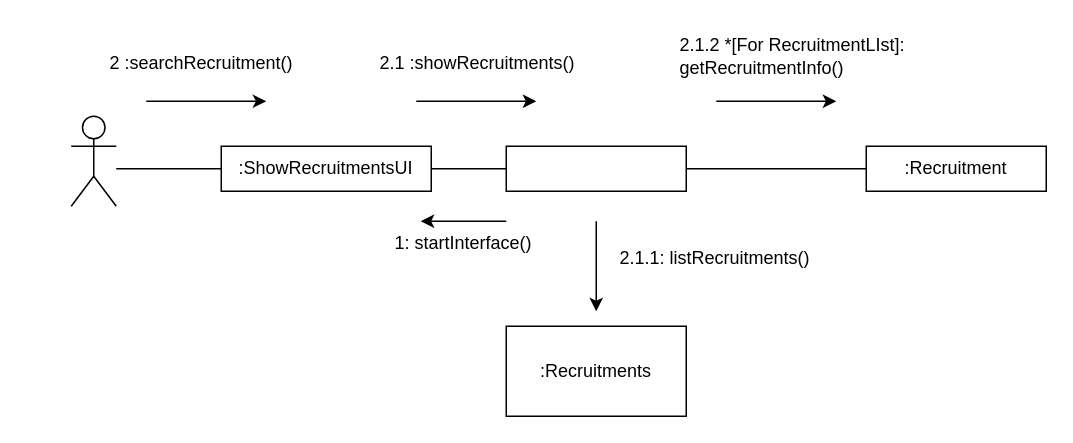
The diagram is 1073 pixels wide and 443 high, and some of its shapes have lost their labels. The centre of each missing label's shape, as x and y in pixels:
:GeneralMember: (93,160)
:ShowRecruitments: (595,168)
